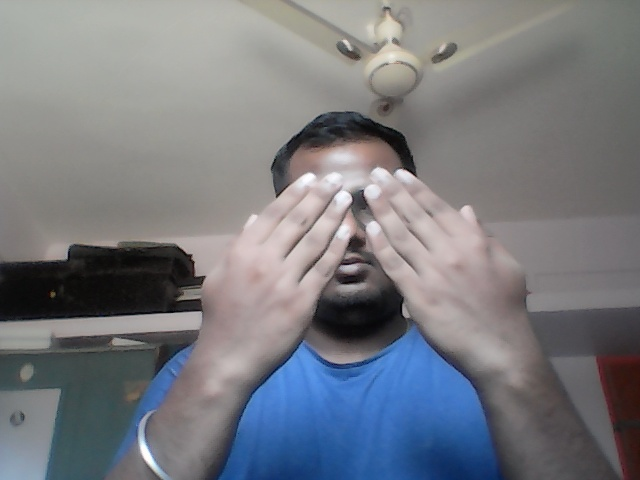Thank You: (196, 165, 532, 373)
